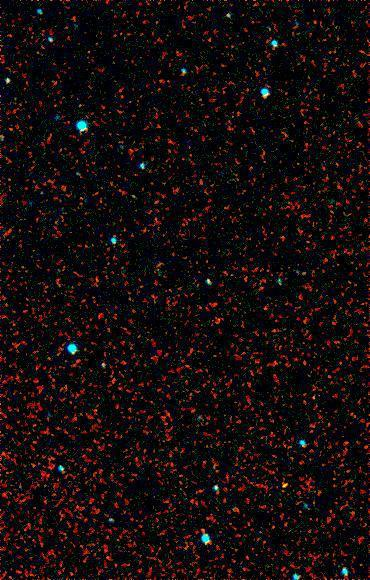star: (269, 468, 299, 498)
